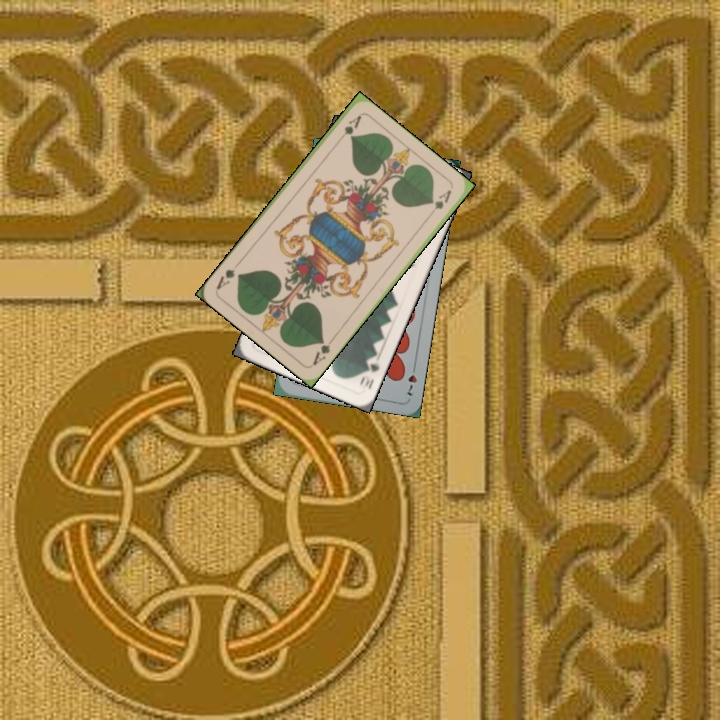G10: (355, 359, 382, 392)
GA: (333, 111, 364, 146), (308, 333, 337, 368)
H7: (402, 359, 420, 399)
